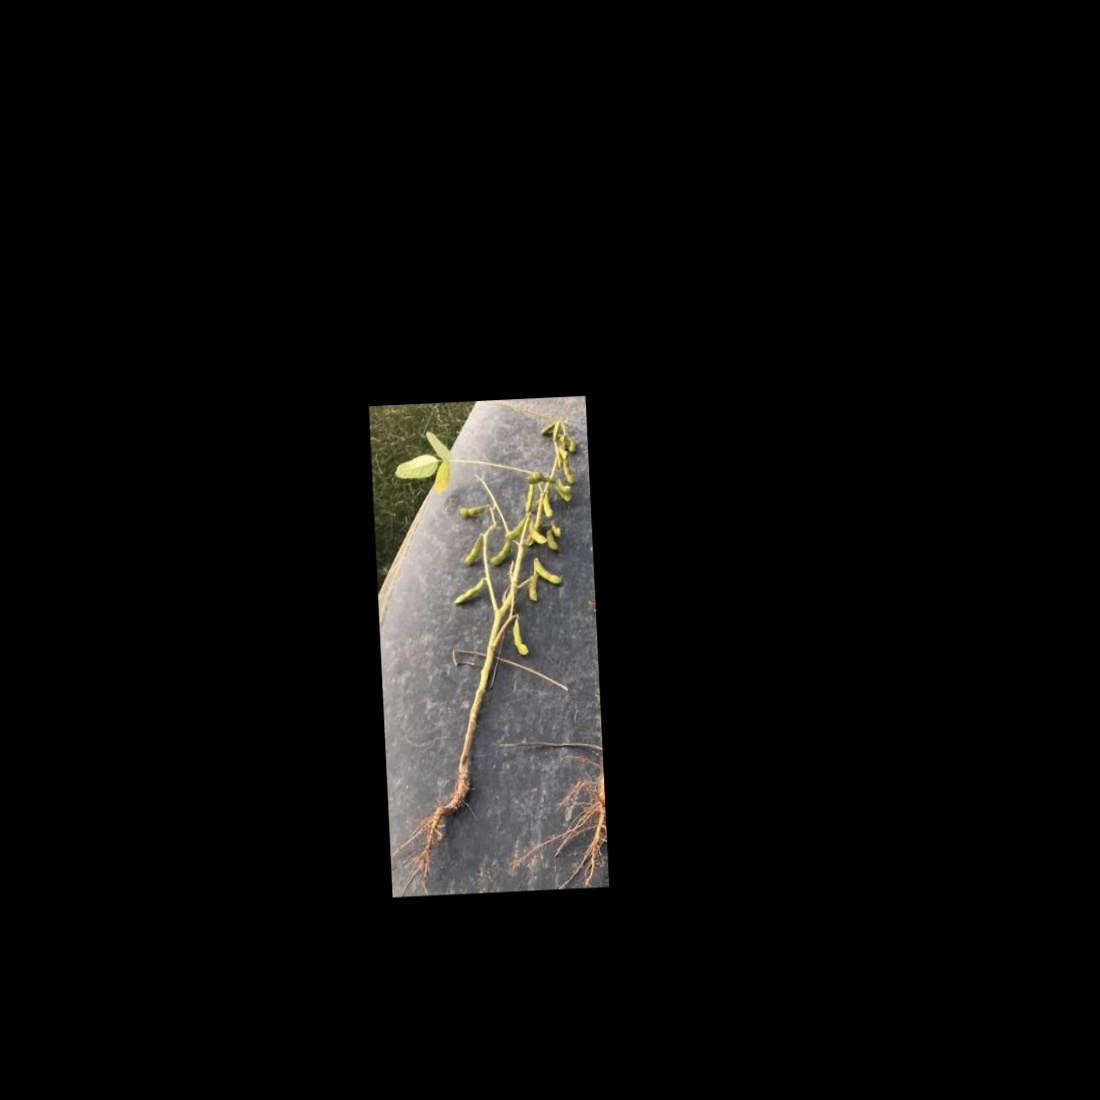pod: (509, 611, 536, 658), (458, 528, 484, 570), (451, 574, 486, 603), (535, 556, 564, 587), (486, 537, 513, 568), (499, 512, 530, 539), (452, 498, 491, 520), (520, 482, 537, 516), (525, 574, 540, 605), (540, 492, 556, 521), (563, 460, 579, 486)
soy: (389, 405, 598, 859)
